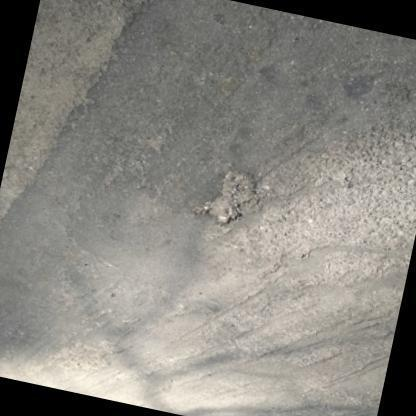pothole: (202, 166, 264, 228)
